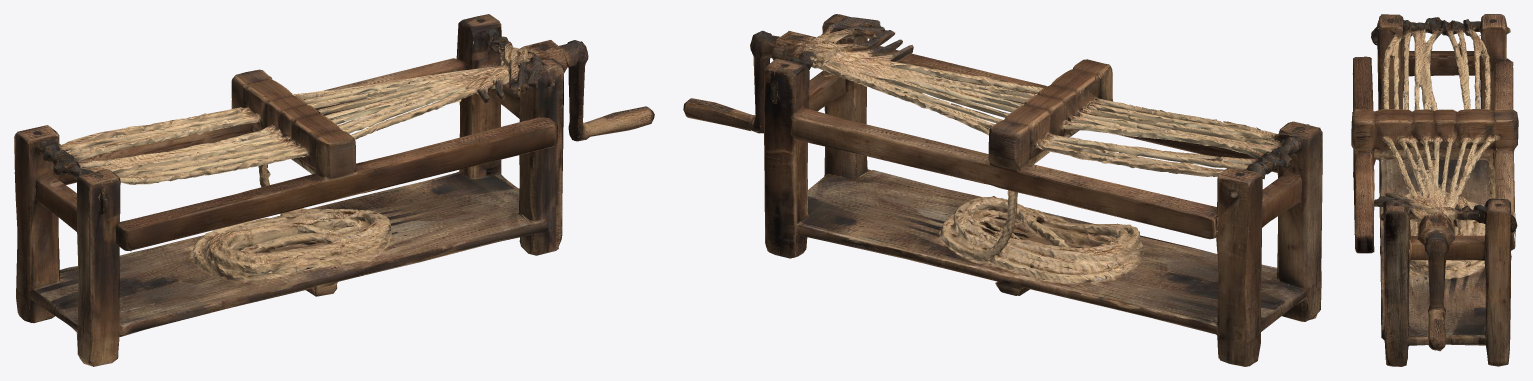
The model's file is ropewalk-laying-rig.glb.
3 renders of one model, left to right at view 1: azimuth 30°, elevation 25°; view 2: azimuth 150°, elevation 25°; view 3: azimuth 270°, elevation 25°, orthographic. The views are drawn at different scales.
Visible parts, largest first — view 1: Mesh_0; view 2: Mesh_0; view 3: Mesh_0.
Boxes of the visible parts, x1,y1,x2,y2 form: Mesh_0: (14, 14, 654, 366); Mesh_0: (683, 14, 1322, 366); Mesh_0: (1351, 14, 1518, 366).
Bounding box in the file's own units: 1.9 × 0.5687 × 0.5408.
Materials: 1 (1 with a texture image).
